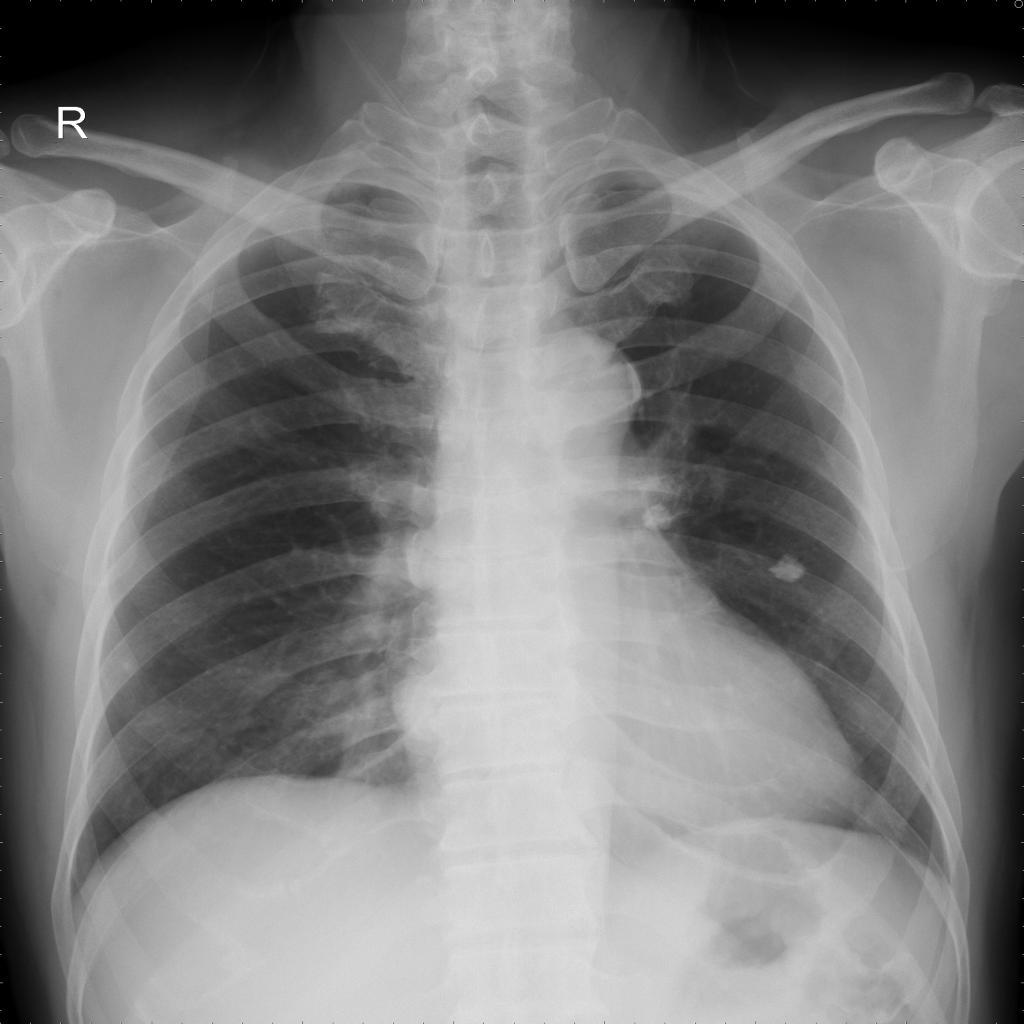Nodule: (771, 553, 805, 582), (640, 505, 670, 530)
